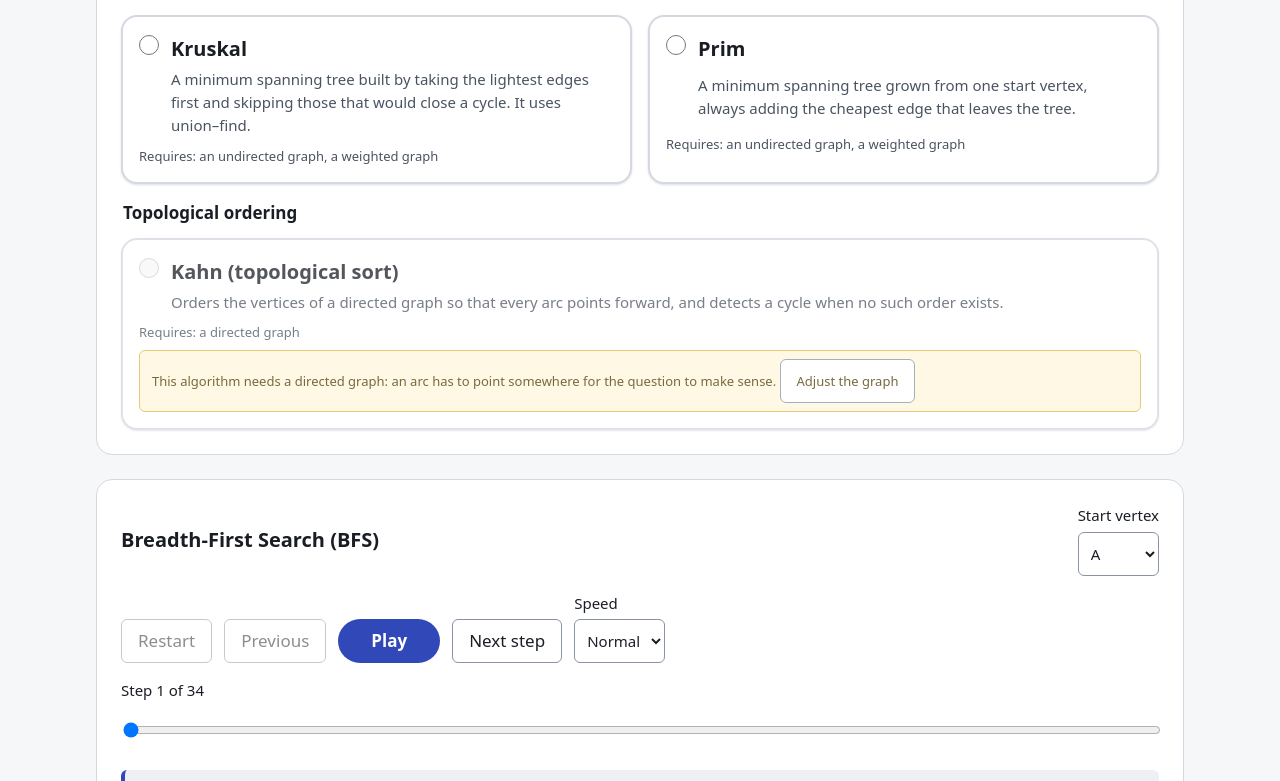
Test: running an algorithm › explains why an algorithm does not fit the graph, and offers to adjust it
(page scrolled)
Check: the radio button labelled "Kahn" is disabled, box top-left (139, 258), bottom-right (159, 278)
Check: the text "needs a directed graph" is shown, box top-left (152, 372), bottom-right (776, 390)
Click the button "Adjust the graph".
click(848, 381)  # box top-left (780, 359), bottom-right (916, 403)
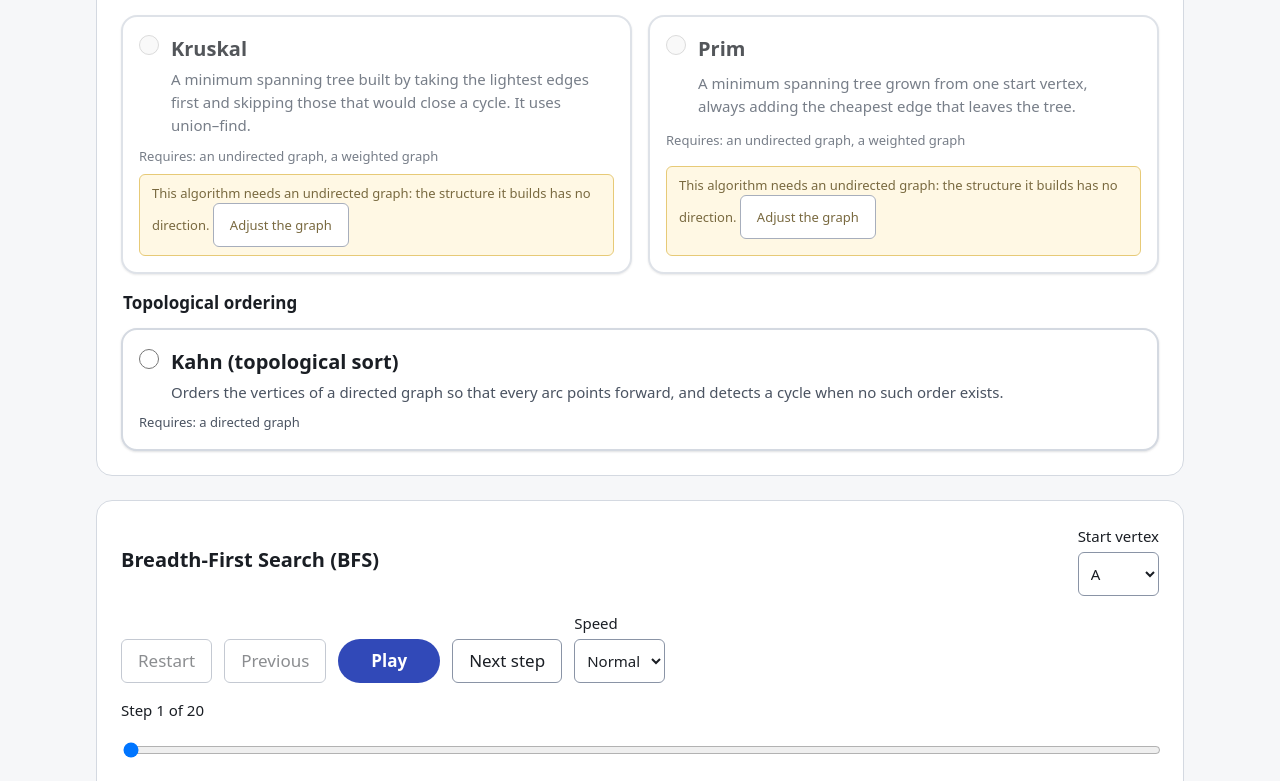
Check: the radio button labelled "Kahn" is enabled
Click the radio button labelled "Kahn".
click(149, 358)  # box top-left (139, 348), bottom-right (159, 368)
(page scrolled)
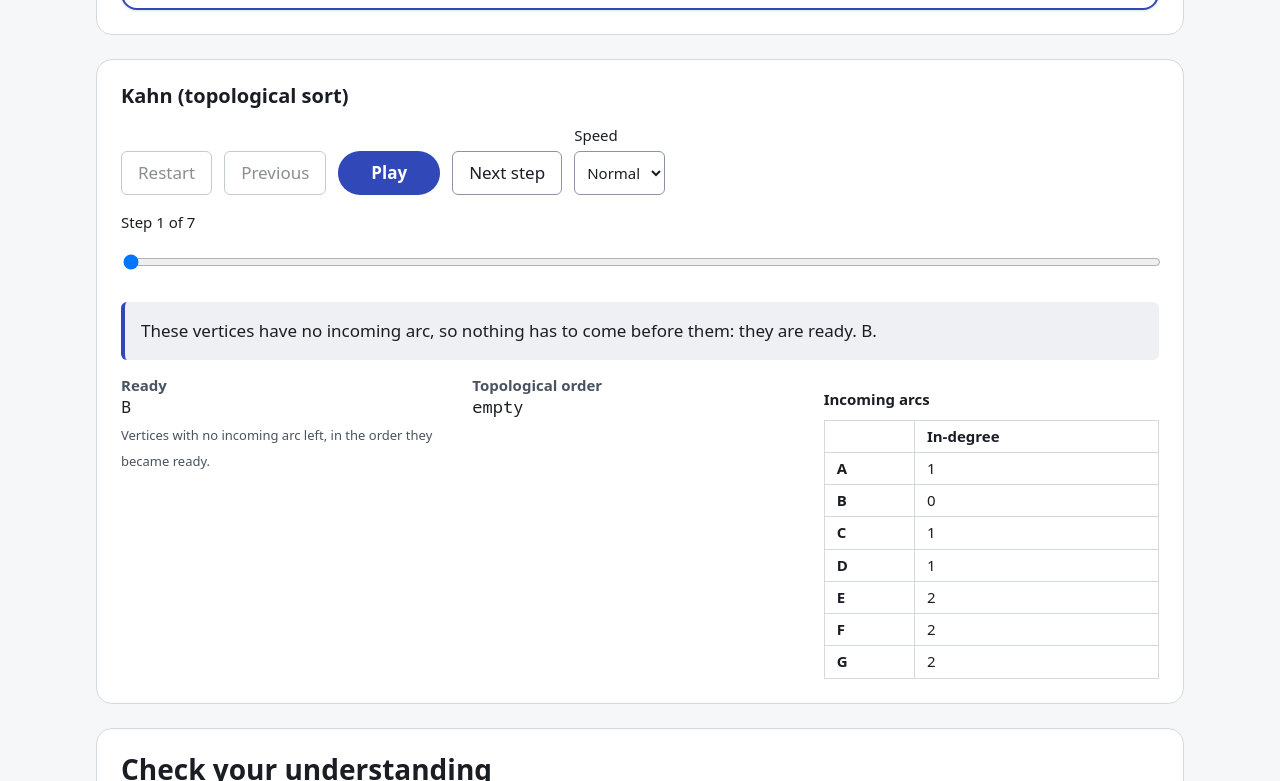
Check: the element "Kahn" is shown
